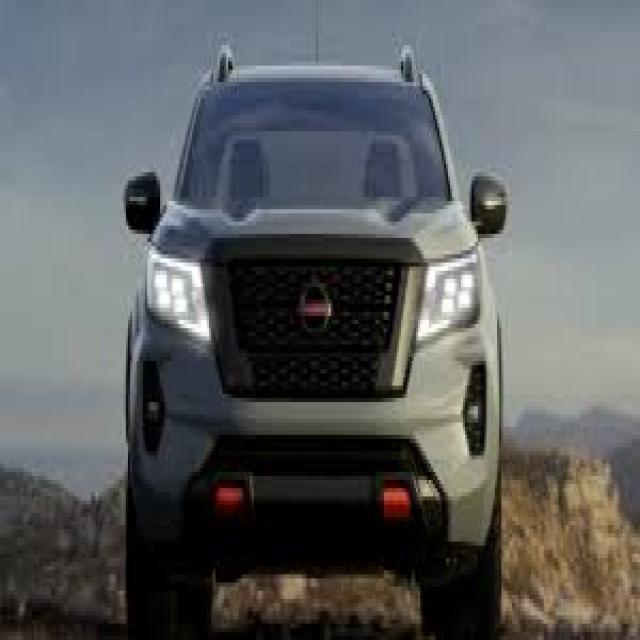Pickup Trucks: (124, 61, 508, 632)
